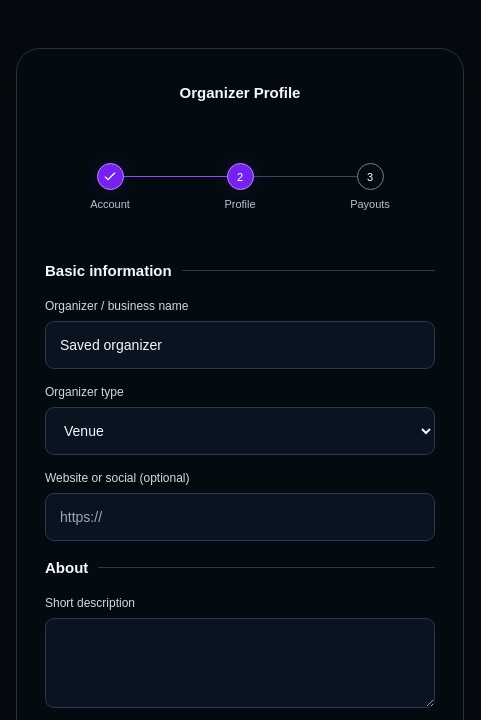
Test case: rejects invalid profile values before any save
Replace the text in the field labelled "Organizer / business name" with "A" at (240, 345), box [45,321,435,369]
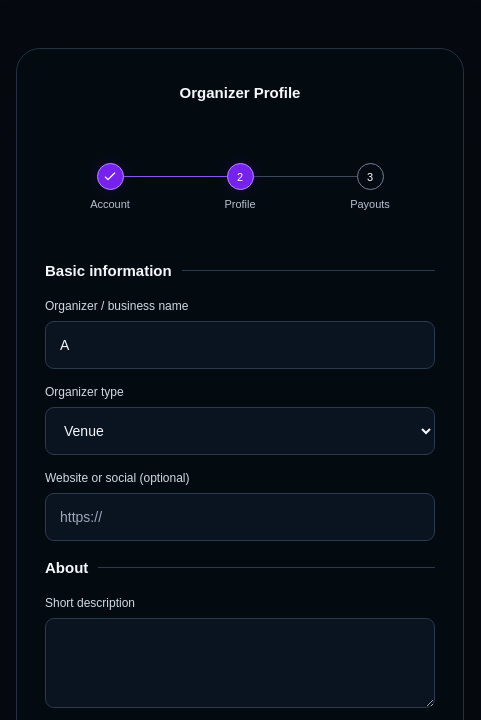
Type "not a url" into the field labelled "Website or social (optional)".
click(240, 517); type("not a url")  # box [45,493,435,541]
(page scrolled)
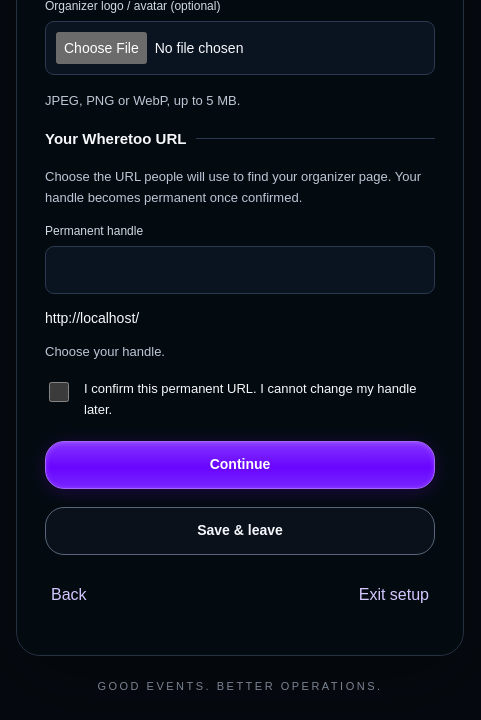
Click the button "Save & leave".
click(240, 531)  # box [45,507,435,555]
(page scrolled)
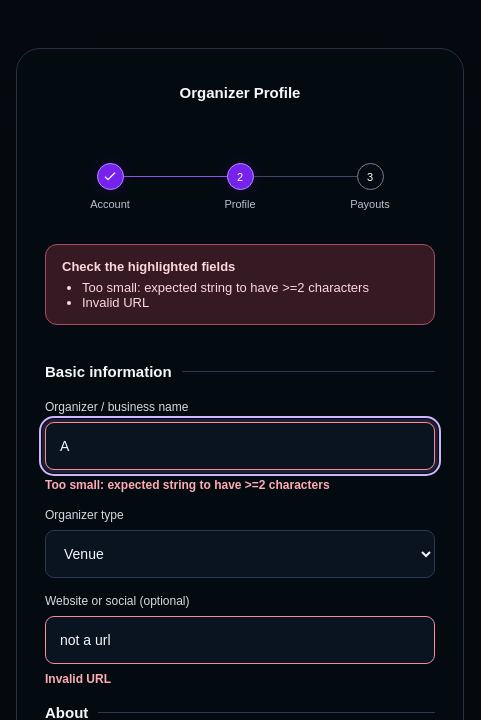
Now the text "Check the highlighted fields" is shown, box [62,259,235,274]
